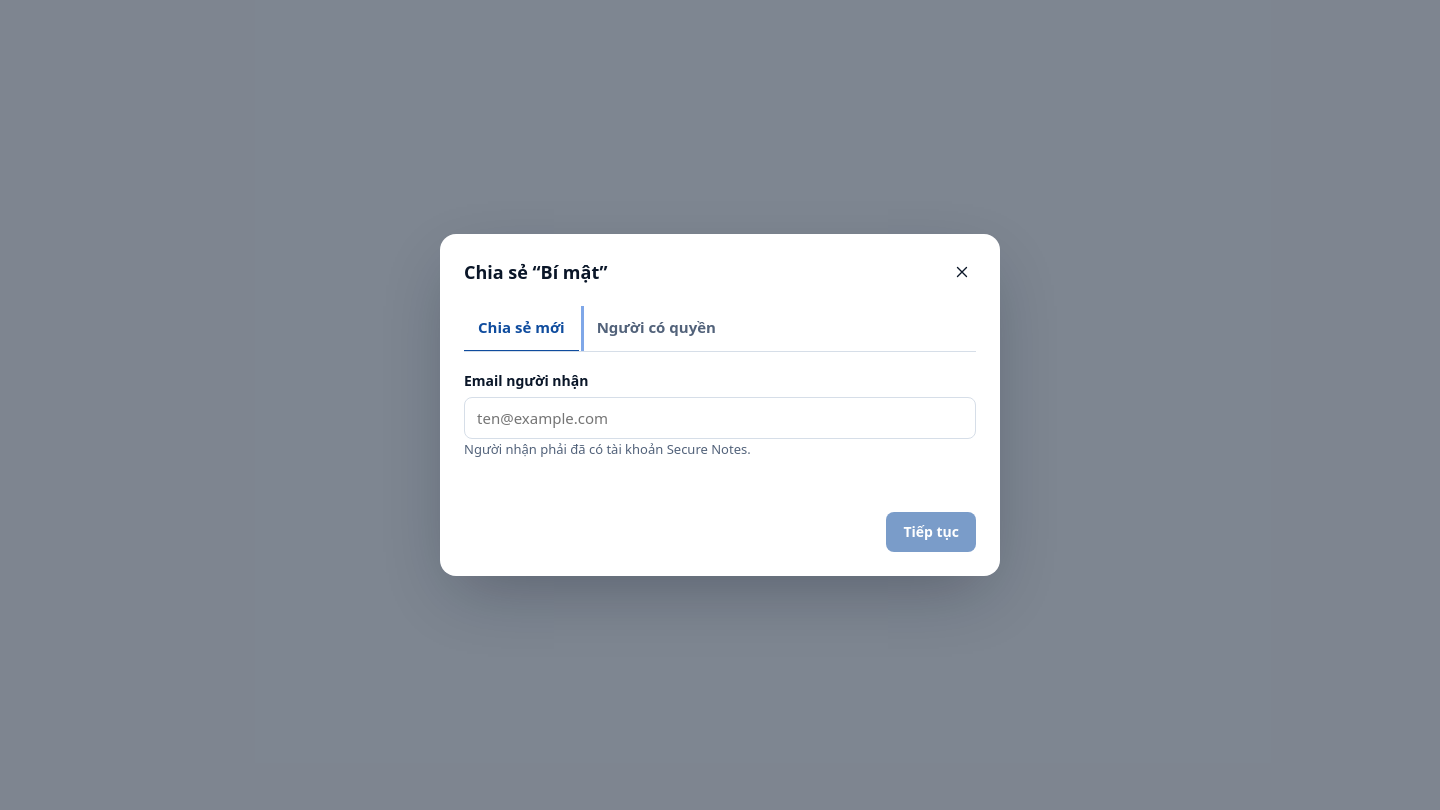
Test: ShareDialog: đối chiếu mã trước khi chia sẻ › SDK phát hiện khóa bị tráo: hiện cảnh báo bảo mật, không báo thành công
Type "bob@example.com" into the field labelled "Email người nhận".
click(720, 418); type("bob@example.com")  # box [464,397,976,439]
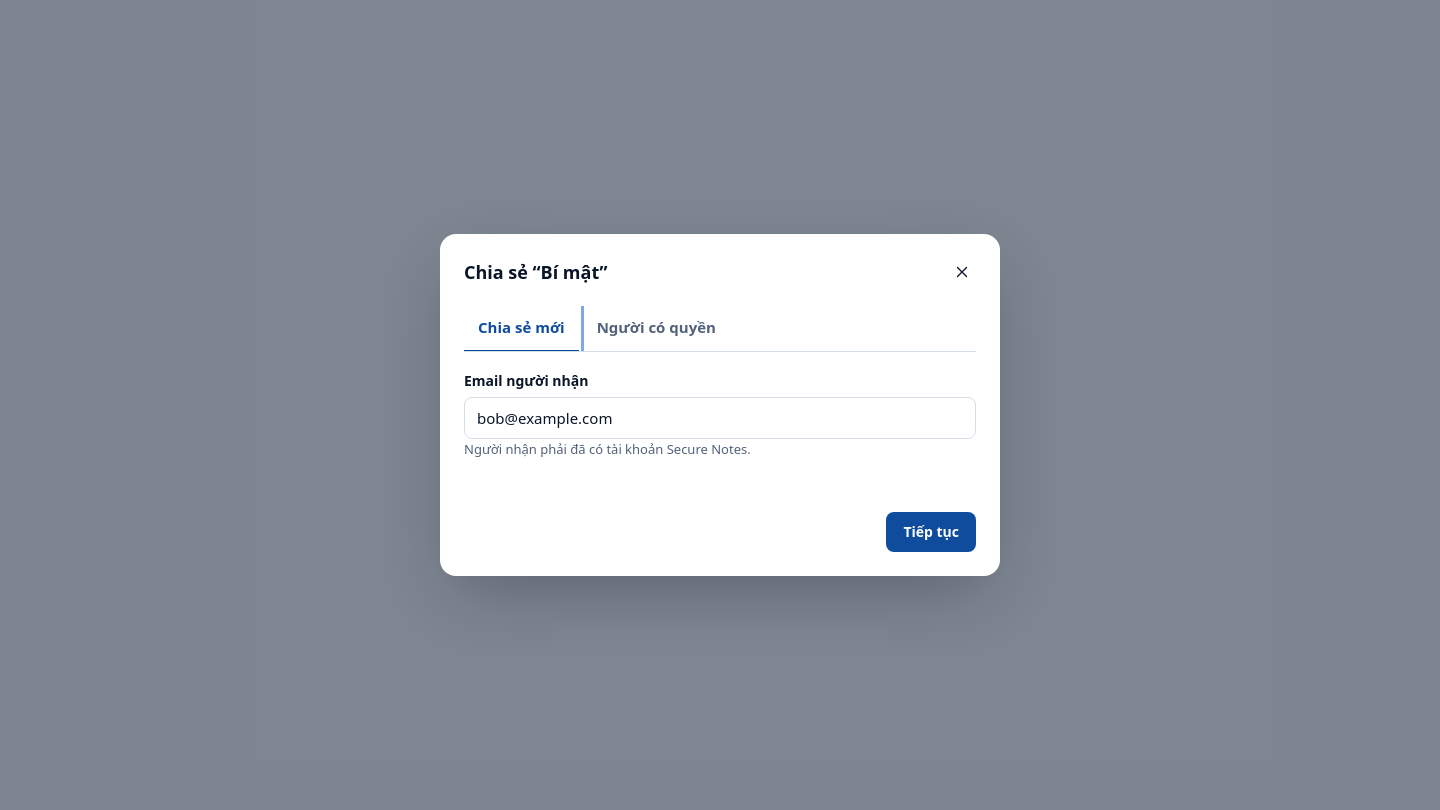
Click the button "Tiếp tục".
click(931, 532)  # box [886,512,976,552]
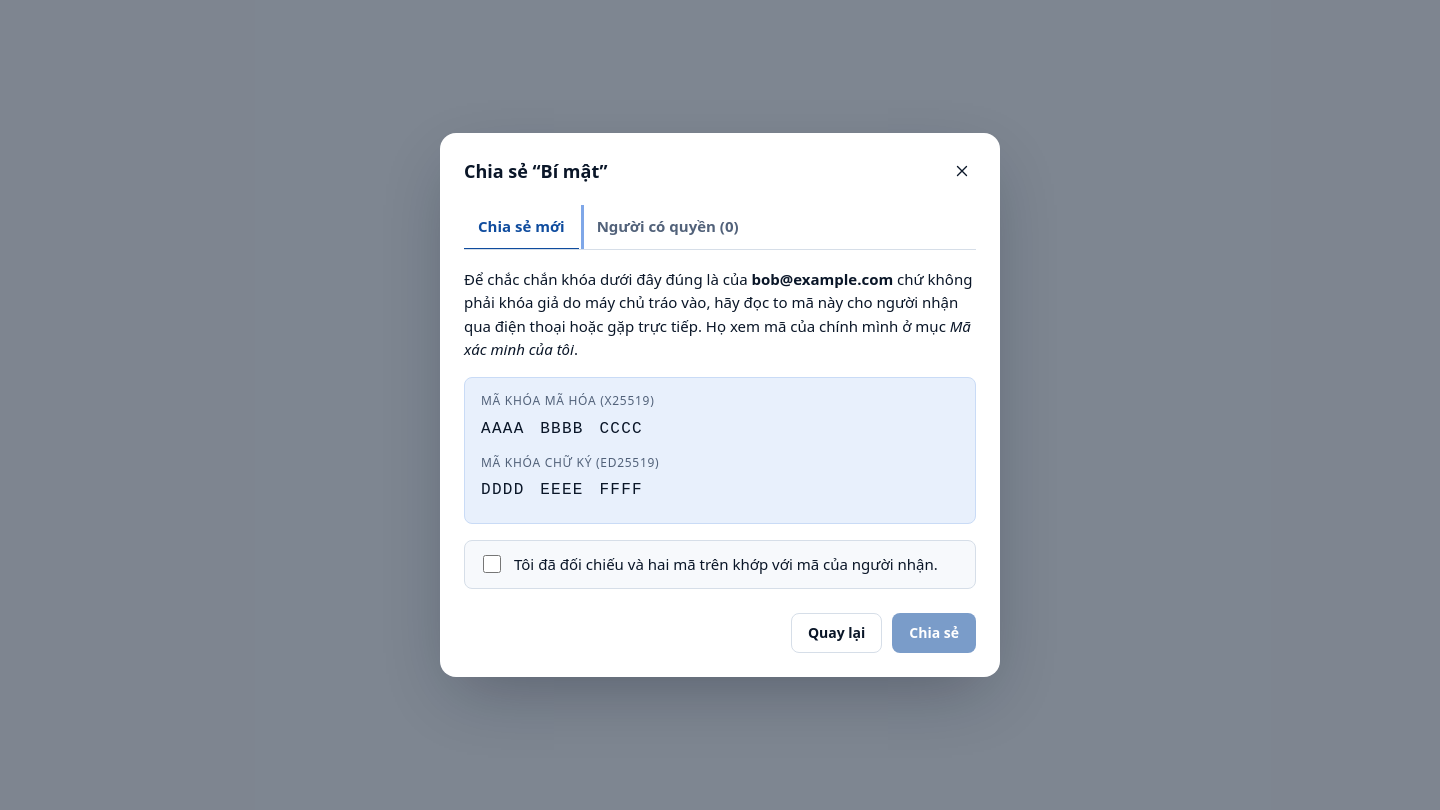
Now the text "AAAA BBBB CCCC" is shown, box [481,420,643,438]
Click the checkbox.
click(492, 564)  # box [483,555,501,573]
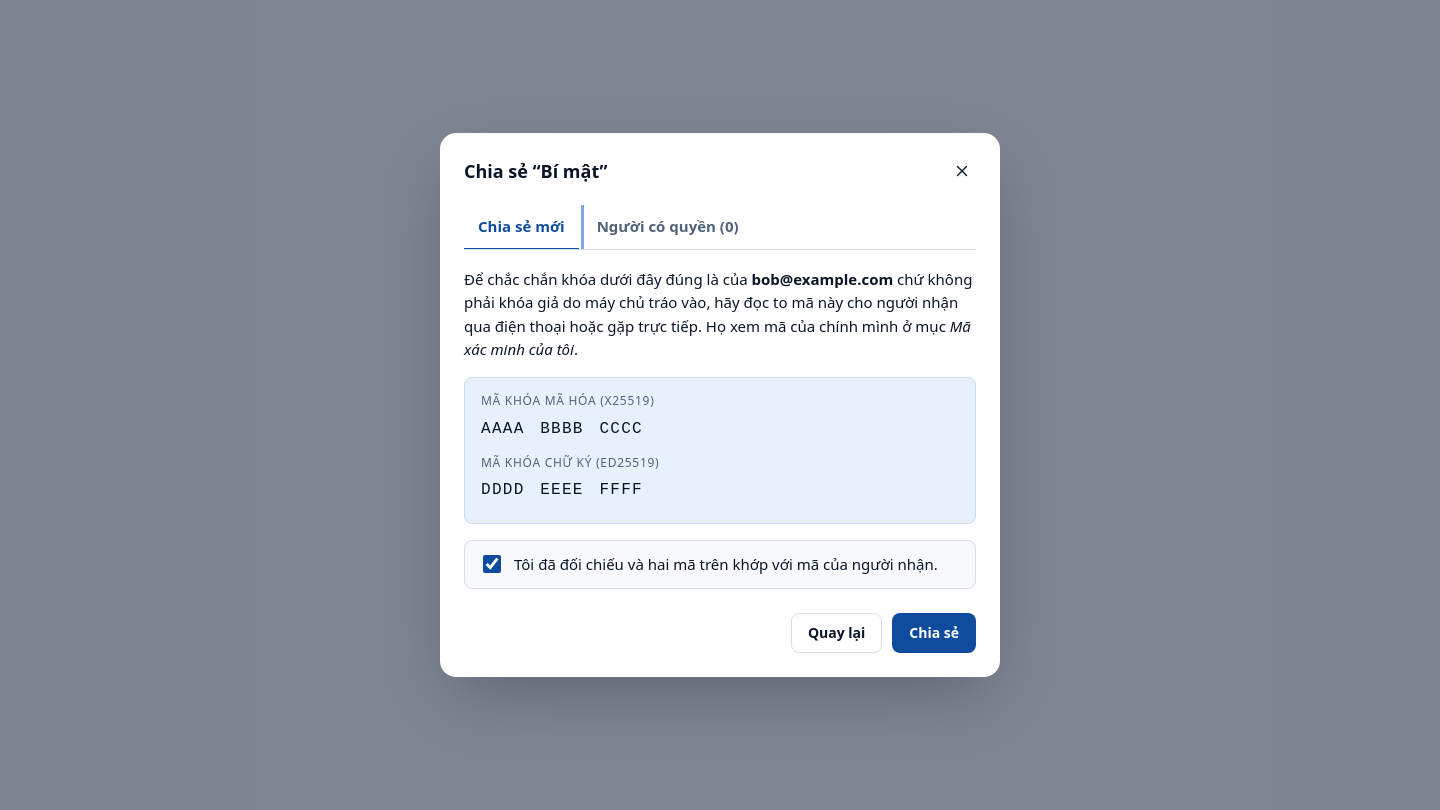
Click the button "Chia sẻ".
click(934, 633)  # box [892,613,976,653]
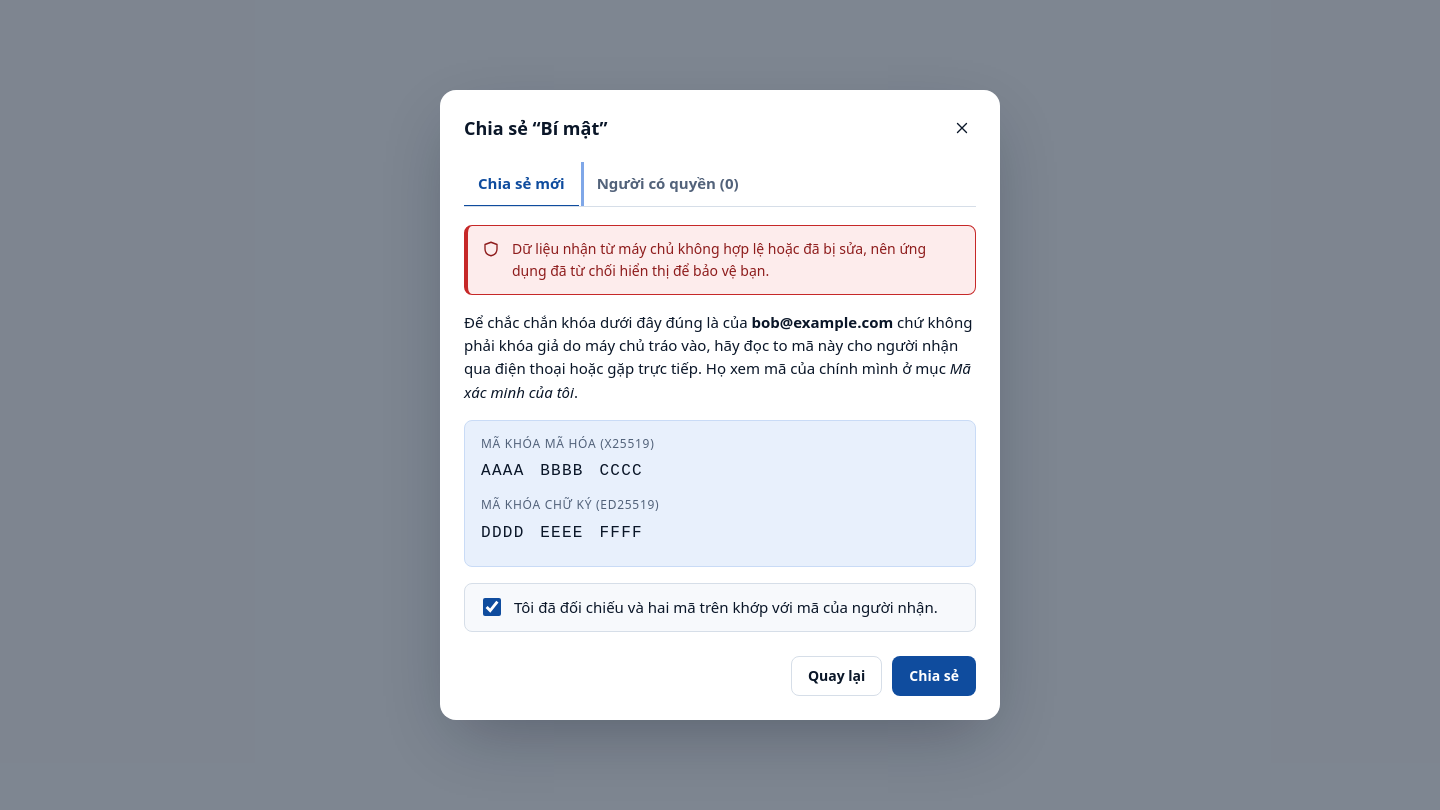
Now the text "không hợp lệ hoặc đã bị sửa" is shown, box [512,239,926,280]
